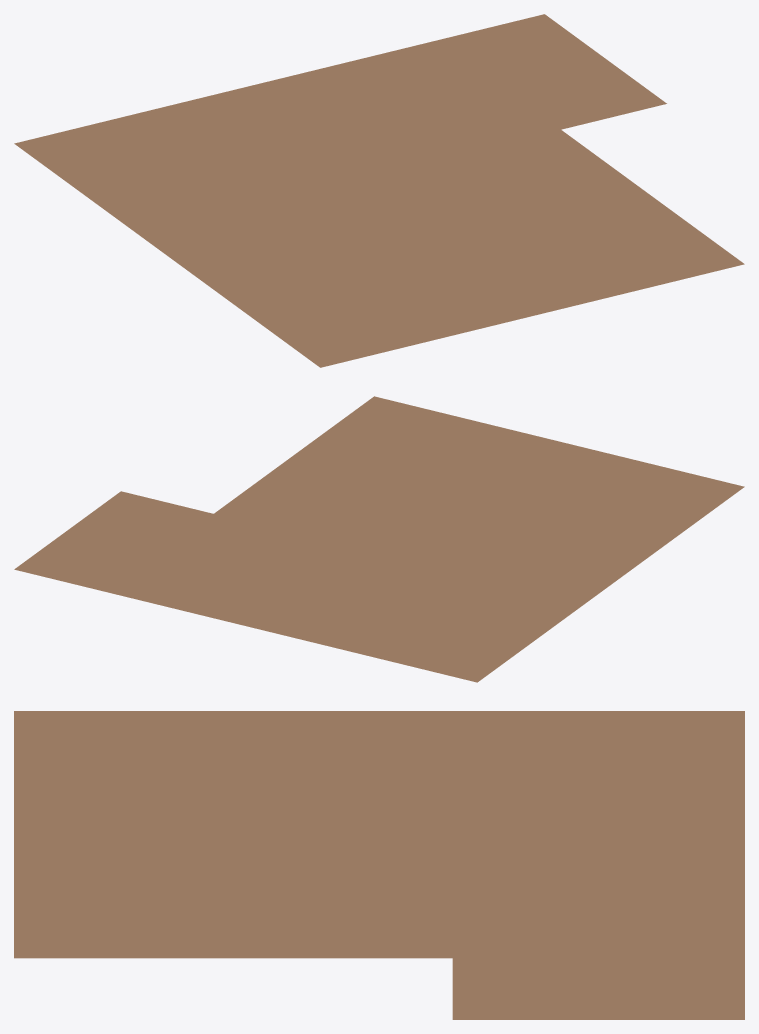
The model's file is N05_Piso_Cuarto_01.fbx.
The picture shows the model from 3 angles, top to bottom: view 1: azimuth 30°, elevation 25°; view 2: azimuth 150°, elevation 25°; view 3: azimuth 270°, elevation 25°; orthographic projection. The views are drawn at different scales.
Parts seen in each view (by area): view 1: N05_Piso_Cuarto_01; view 2: N05_Piso_Cuarto_01; view 3: N05_Piso_Cuarto_01.
Boxes of the visible parts, box(x1,y1,x2,y2) form: N05_Piso_Cuarto_01: box(14, 14, 744, 367); N05_Piso_Cuarto_01: box(14, 396, 744, 682); N05_Piso_Cuarto_01: box(14, 711, 744, 1019).
Bounding box in the file's own units: 500 × 8.15e-05 × 500.
1 material, 1 textured.
